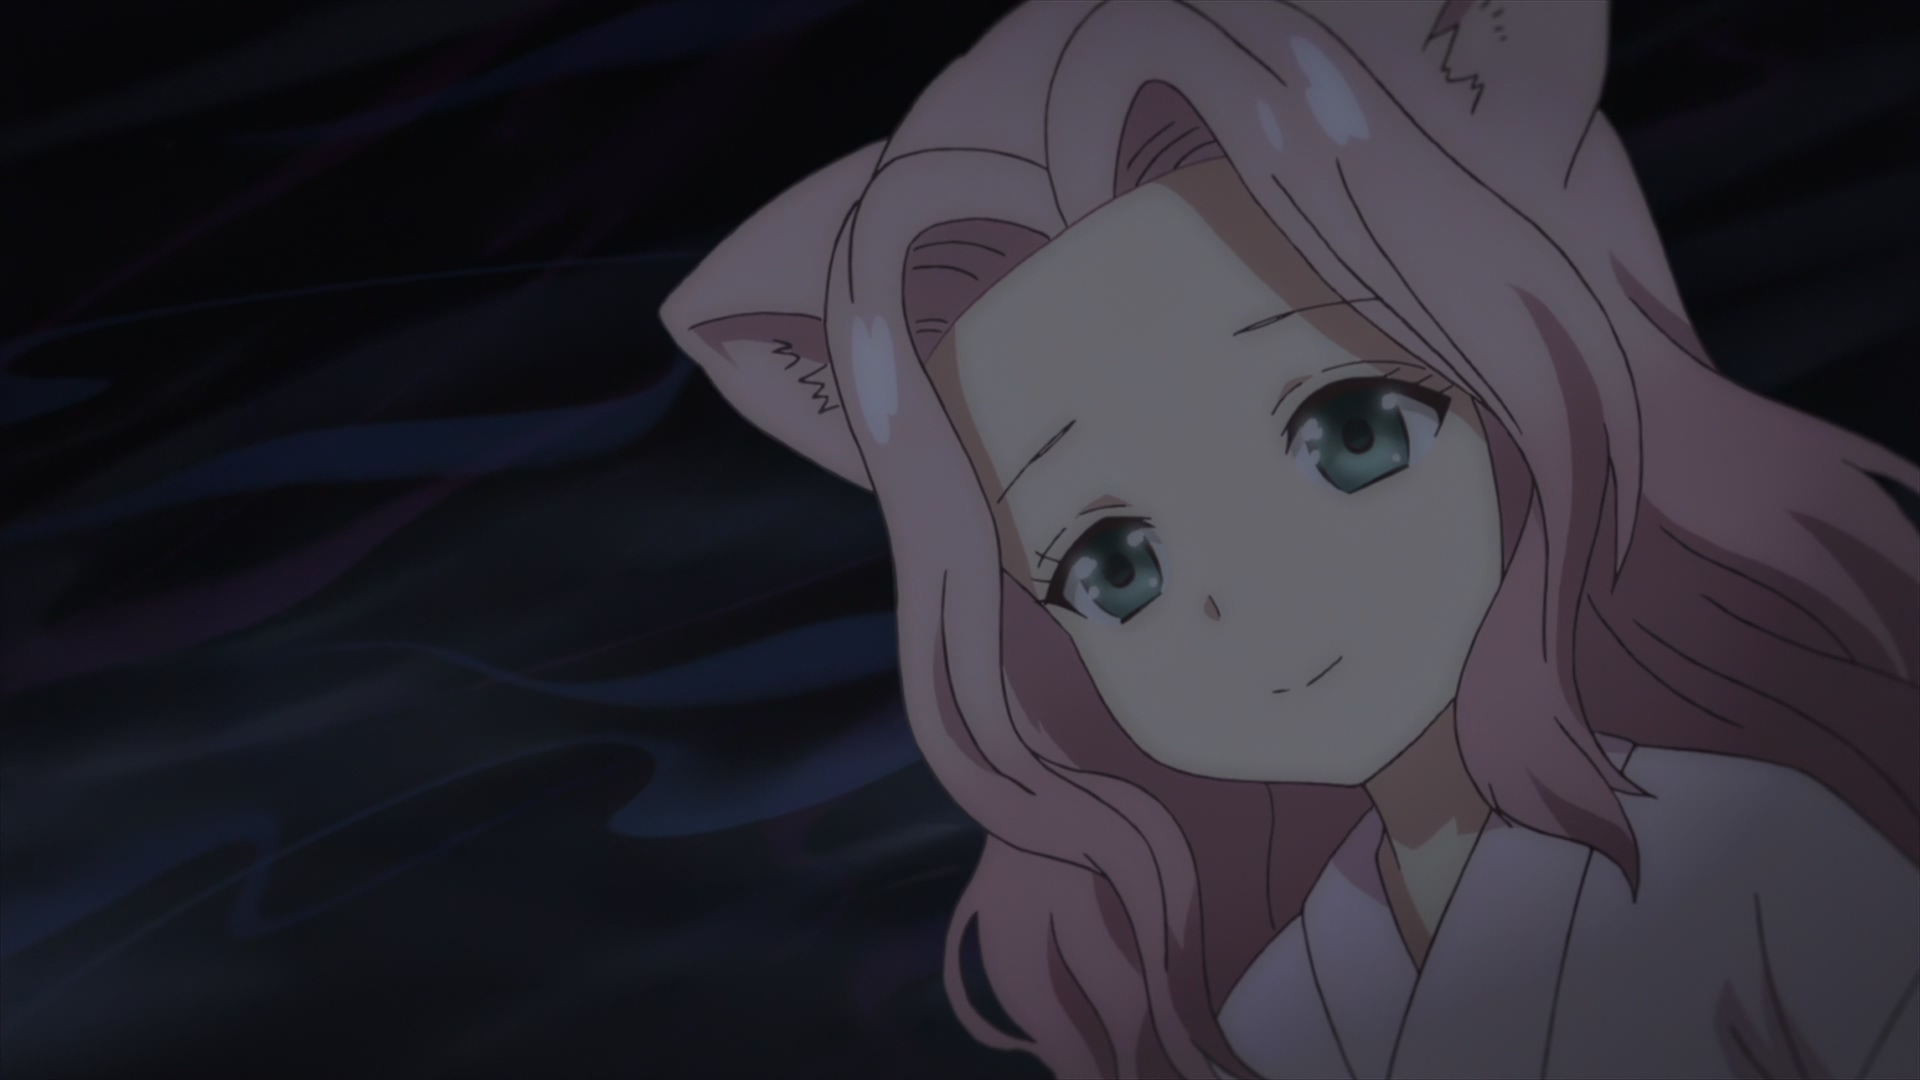莲: (658, 1, 1920, 1080)
